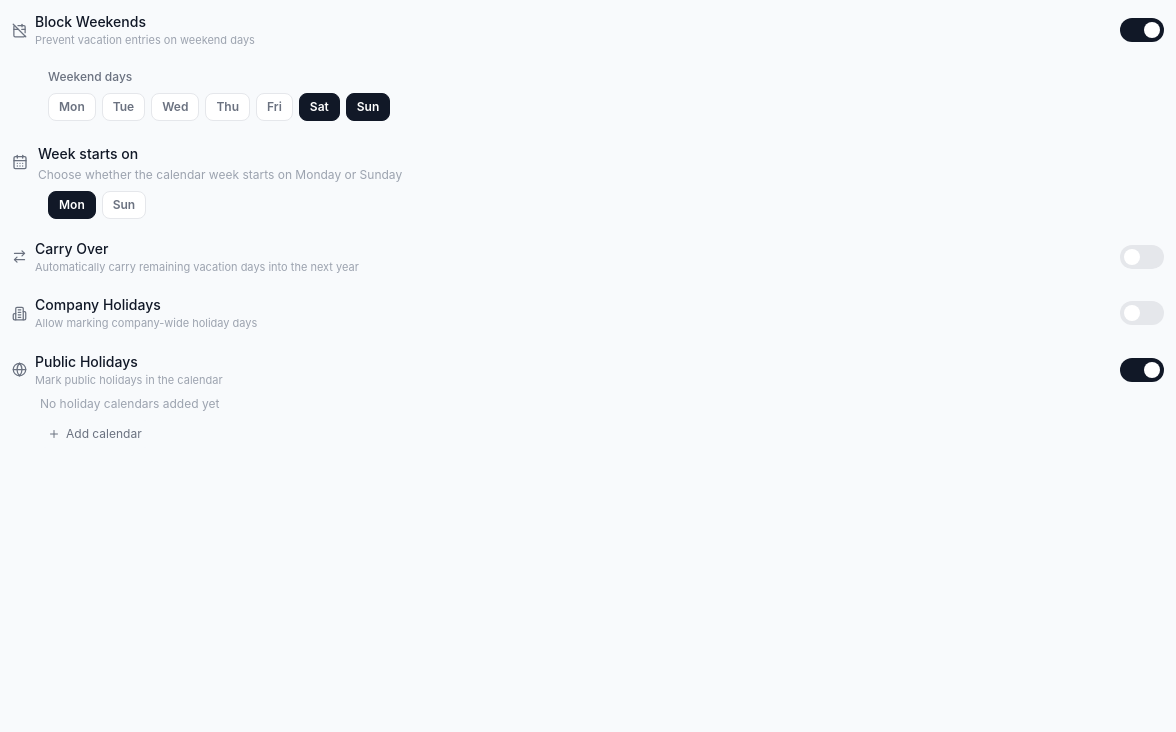
Scenario: VacaySettings › FE-COMP-VACAYSETTINGS-007: AddCalendarForm appears on add-button click
Click the button "Add calendar": (95, 434) top-left (40, 420), bottom-right (150, 448)
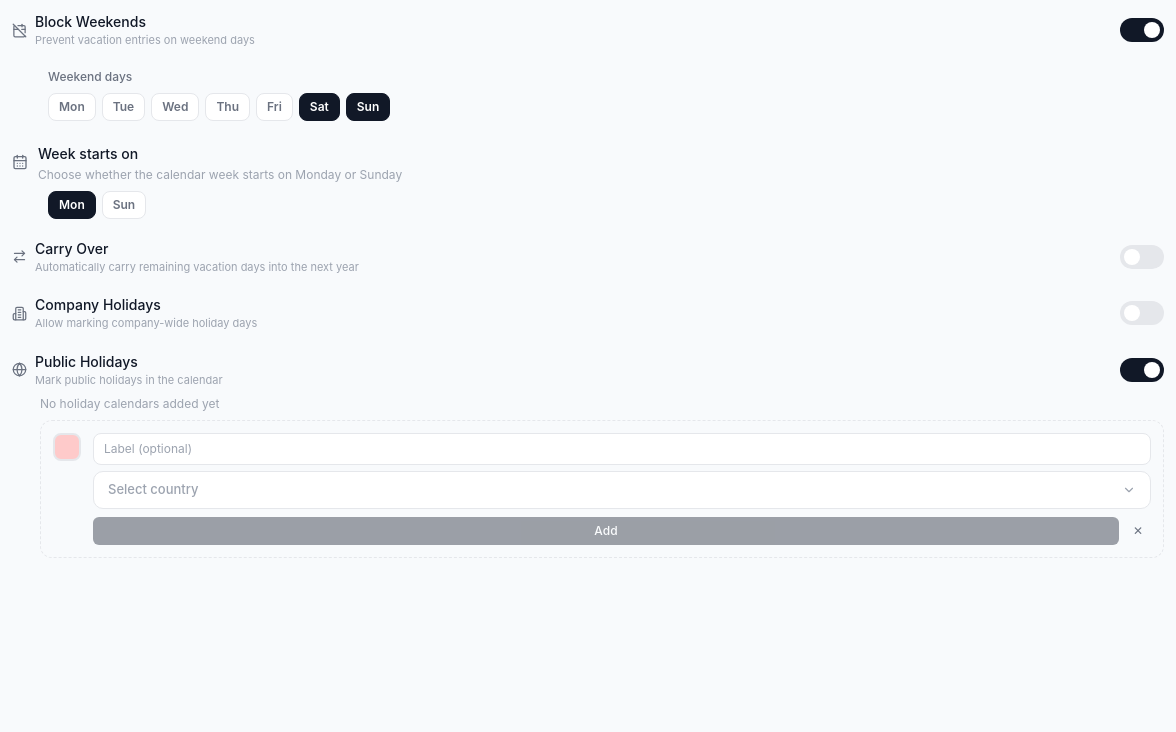
expect the field is shown: met, box top-left (93, 433), bottom-right (1151, 465)
